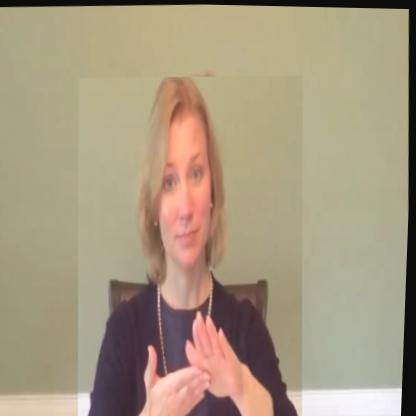NiceToMeetYou: (69, 69, 315, 416)
